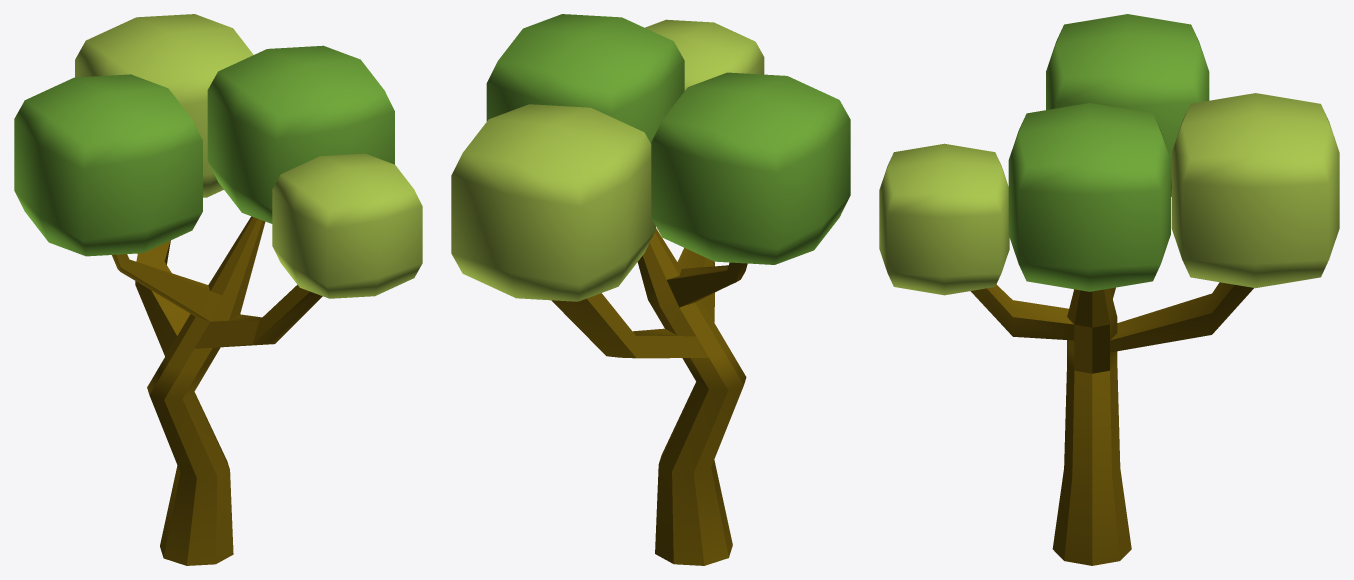
Rendered from arbre.fbx.
3 views of the same model, side by side, from view 1: azimuth 30°, elevation 25°; view 2: azimuth 150°, elevation 25°; view 3: azimuth 270°, elevation 25° (orthographic). The views are drawn at different scales.
Visible parts, largest first — view 1: paquetFeuille3, tronc, paquetFeuille1, paquetFeuille5, paquetFeuille2; view 2: paquetFeuille2, paquetFeuille3, tronc, paquetFeuille1, paquetFeuille5; view 3: paquetFeuille2, paquetFeuille1, tronc, paquetFeuille5, paquetFeuille3.
Boxes of the visible parts, x1,y1,x2,y2 form: paquetFeuille3: (14, 74, 202, 256); tronc: (112, 216, 322, 565); paquetFeuille1: (207, 45, 394, 223); paquetFeuille5: (272, 153, 422, 298); paquetFeuille2: (75, 14, 253, 197); paquetFeuille2: (451, 104, 655, 301); paquetFeuille3: (651, 72, 850, 264); tronc: (551, 228, 747, 565); paquetFeuille1: (486, 14, 684, 143); paquetFeuille5: (645, 19, 764, 90); paquetFeuille2: (1171, 93, 1339, 288); paquetFeuille1: (1008, 103, 1170, 291); tronc: (970, 282, 1253, 565); paquetFeuille5: (879, 143, 1009, 295); paquetFeuille3: (1046, 14, 1209, 196).
Bounding box in the file's own units: 191 × 272 × 237.
